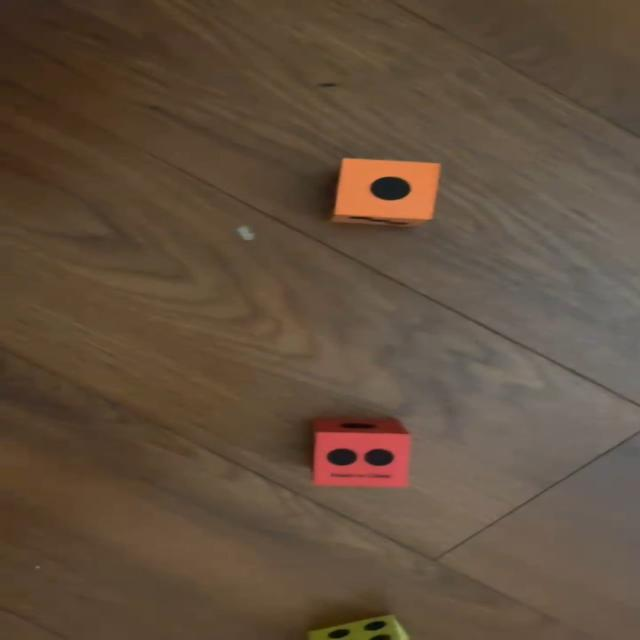red_block: (313, 420, 411, 488)
